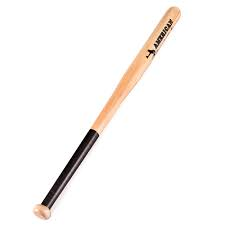baseball bat: (33, 5, 182, 221)
